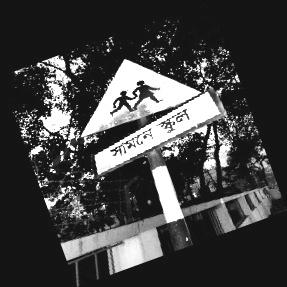School-in-front: (81, 59, 222, 177)
